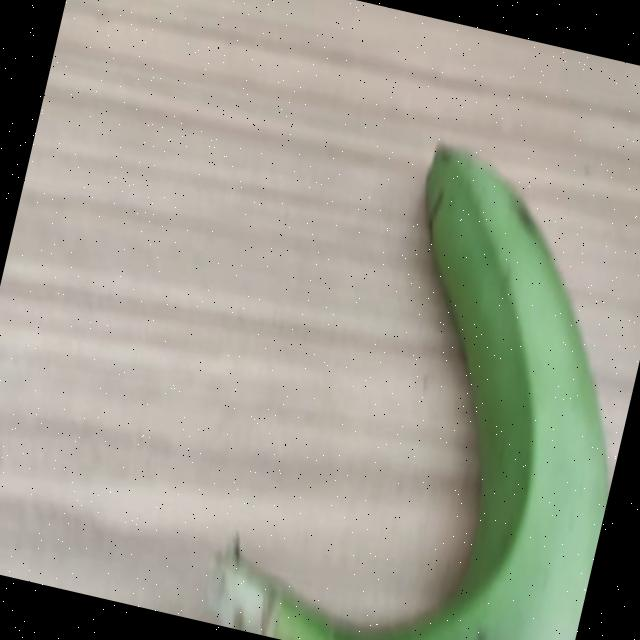Raw: (153, 63, 640, 640)
